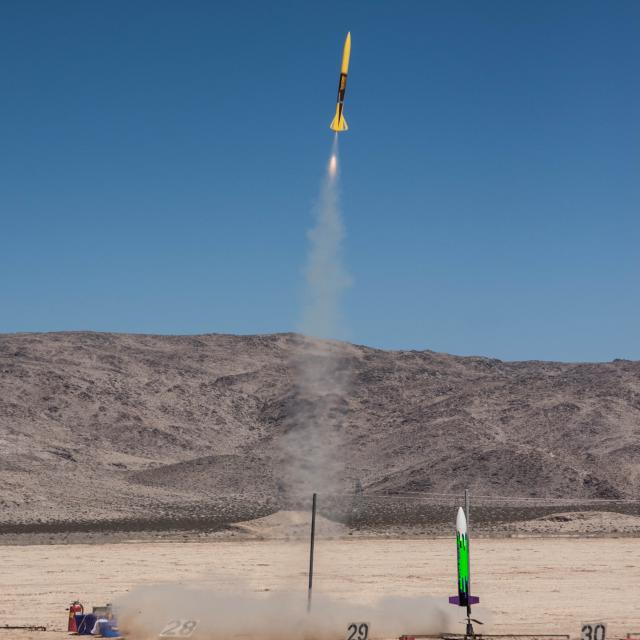Rocket: (448, 506, 481, 608), (330, 31, 352, 132)
